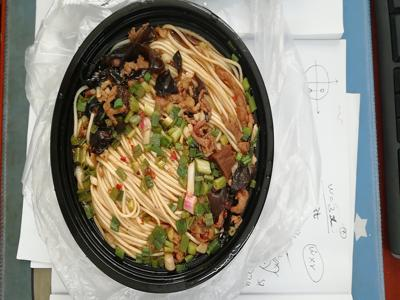nrm: (40, 16, 279, 259)
